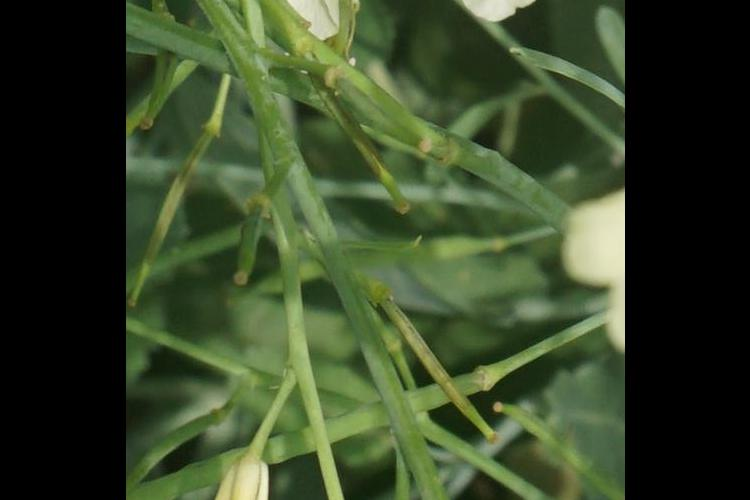pod: (131, 86, 227, 350), (398, 288, 523, 465), (344, 79, 413, 224), (141, 407, 236, 500), (366, 49, 449, 155), (220, 163, 284, 293), (485, 387, 578, 466), (142, 21, 191, 130)
white: (217, 1, 337, 44)
